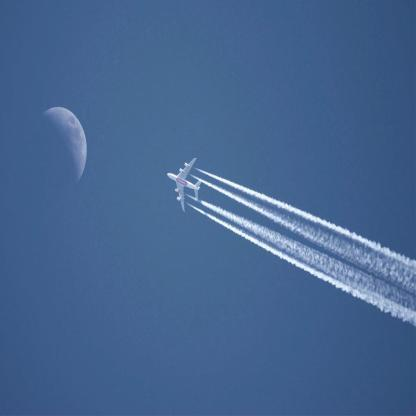CIV_Plane: (162, 156, 204, 218)
